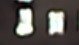MISSING: (10, 5, 40, 40), (44, 5, 69, 39)
